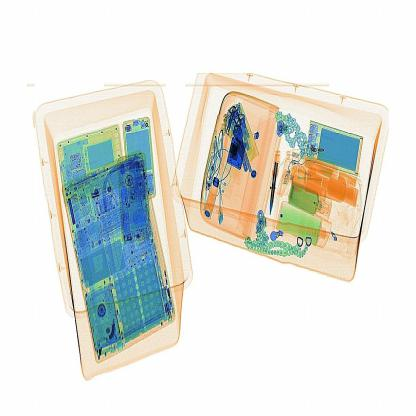gun: (267, 137, 286, 221)
